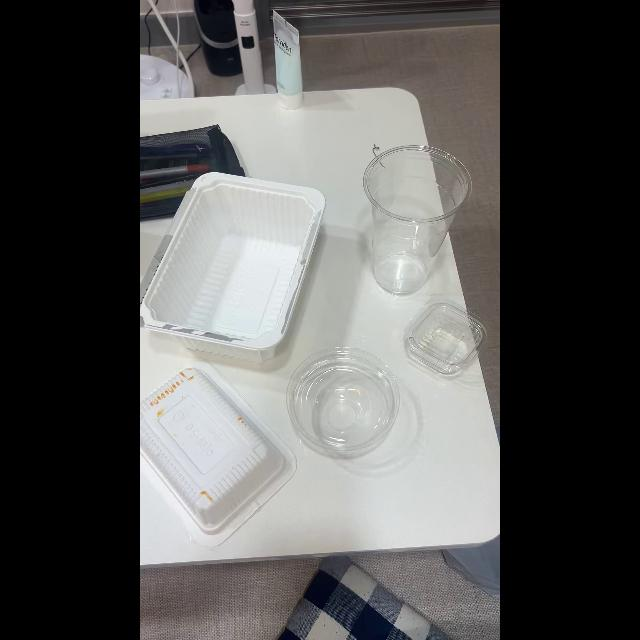clean: (146, 174, 316, 360), (364, 146, 470, 294), (288, 349, 400, 453), (406, 299, 488, 373)
dirty: (141, 362, 273, 532)
